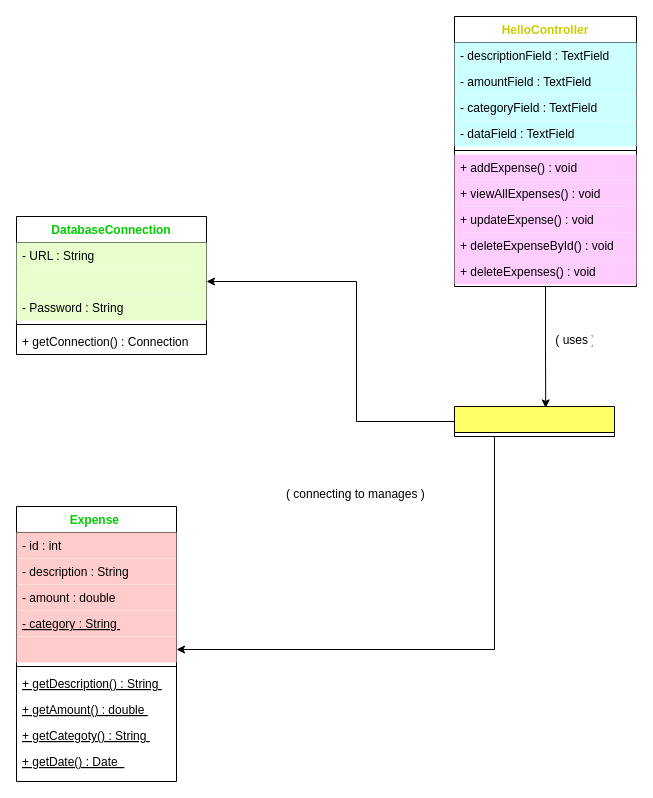
Image size: 653x798. Some labels were removed from this diagram. The shapes that lost their labels are listed below. From the top down, each one's centre as x and y in pixels, then its label:
[111,281]: - User : String
[534,421]: ExpenseDAO
[96,649]: - data : Date
